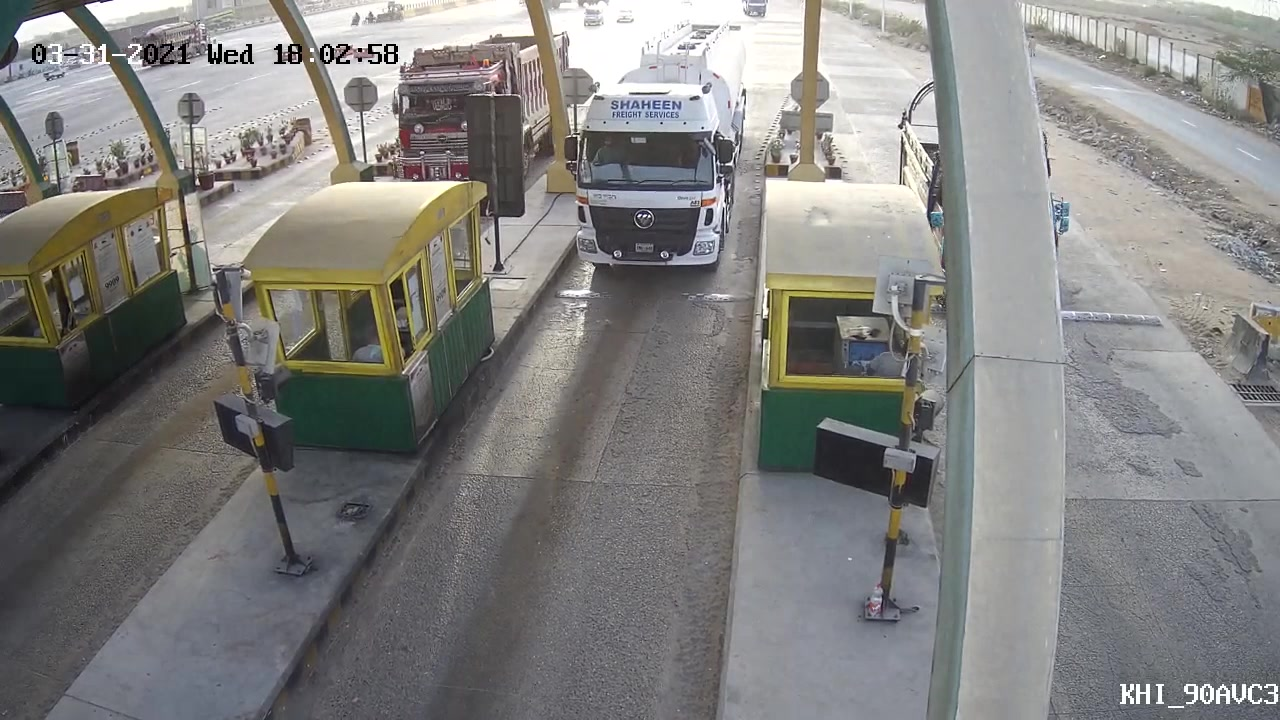F6: (563, 14, 760, 279)
